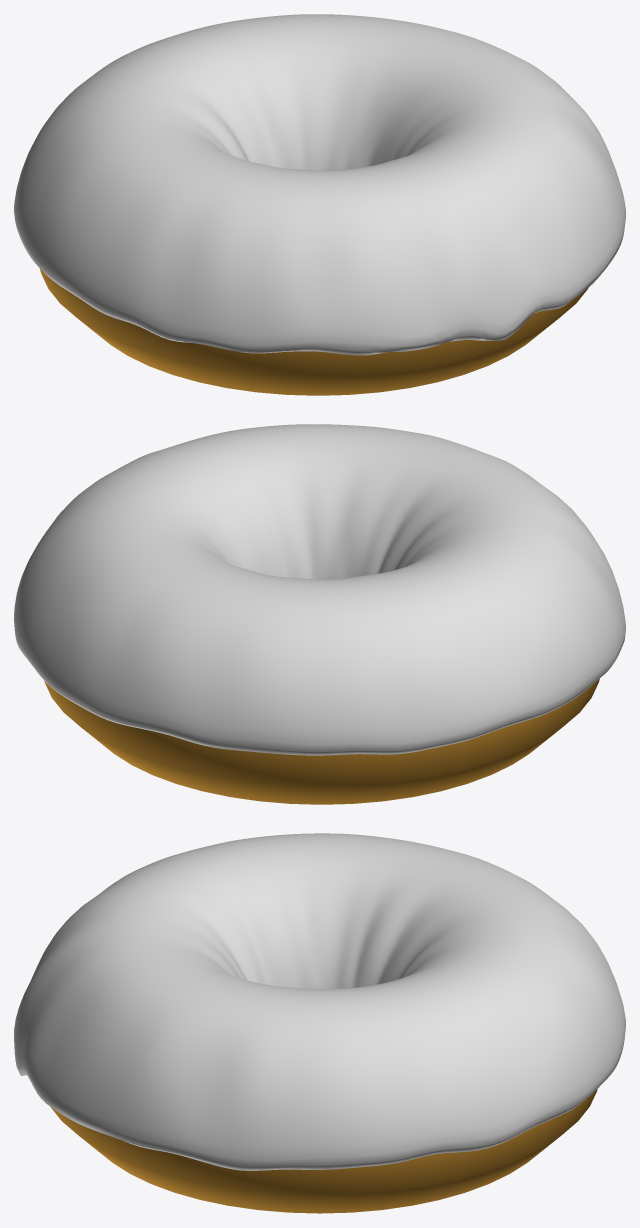
File: donut.fbx
The picture shows the model from 3 angles, top to bottom: view 1: azimuth 30°, elevation 25°; view 2: azimuth 150°, elevation 25°; view 3: azimuth 270°, elevation 25°; orthographic projection.
Visible parts, largest first — view 1: Torus.001, Torus.005; view 2: Torus.001, Torus.005; view 3: Torus.001, Torus.005.
Boxes of the visible parts, x1,y1,x2,y2 form: Torus.001: (14, 14, 625, 355); Torus.005: (39, 268, 588, 395); Torus.001: (14, 424, 625, 755); Torus.005: (44, 678, 599, 804); Torus.001: (14, 833, 625, 1170); Torus.005: (50, 1089, 597, 1213).
Size of the model in its own units: 72.86 by 26.85 by 72.86.
